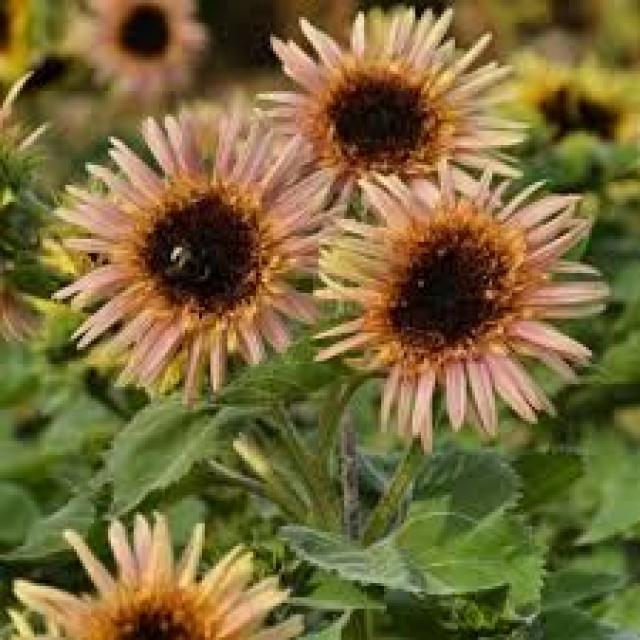sunflower: (48, 100, 357, 418), (306, 156, 620, 460), (250, 0, 538, 216), (3, 512, 310, 640), (488, 39, 640, 166), (57, 0, 222, 108), (5, 36, 133, 154)
